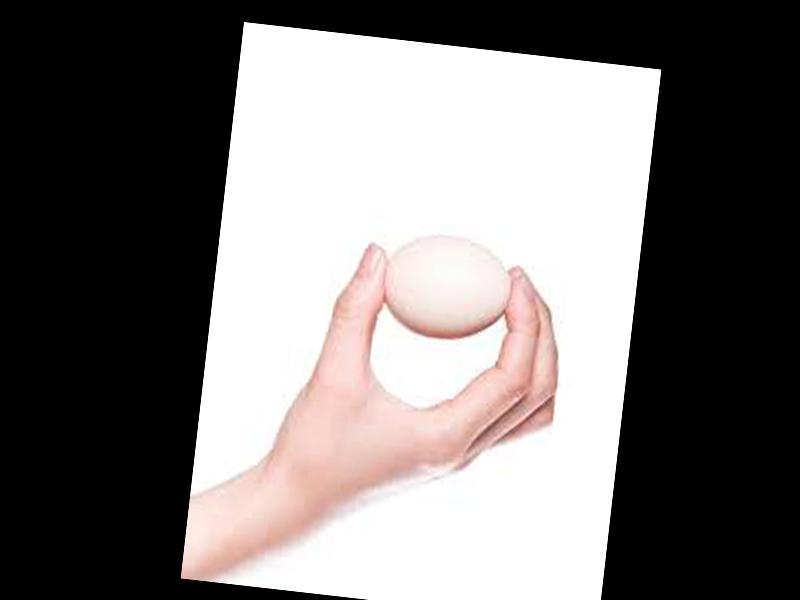Eggs: (377, 228, 517, 346)
